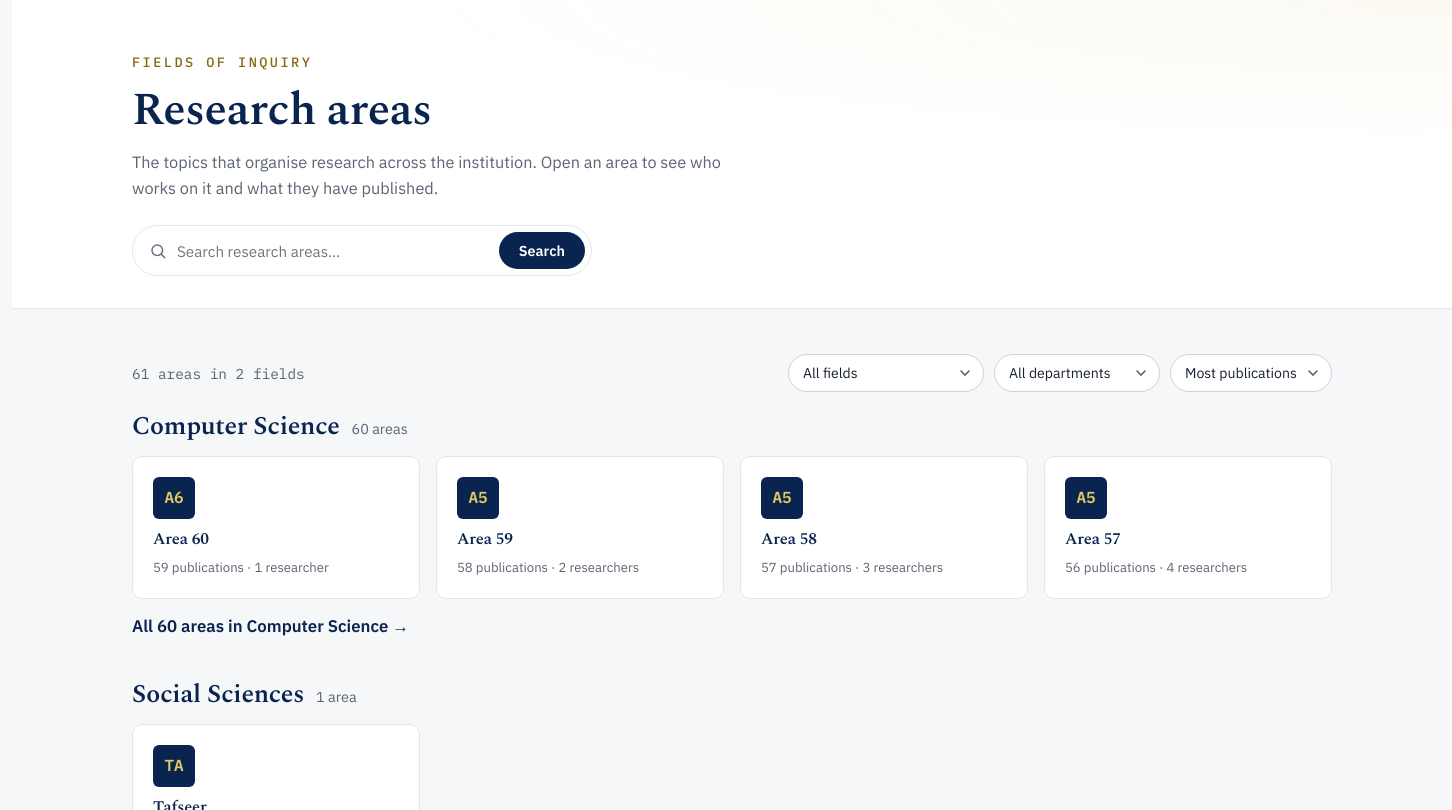
Scenario: Research areas › groups areas under their fields, largest field first
Expected: the headings read "Computer Science", "Social Sciences", in this order, [132,412,340,442]; [132,680,304,710]
What coordinates should you click on to do the following:
click the button "All 60 areas in Computer Science →"
I would click on:
 (270, 627)
Its box is [132,614,409,640].
(page scrolled)
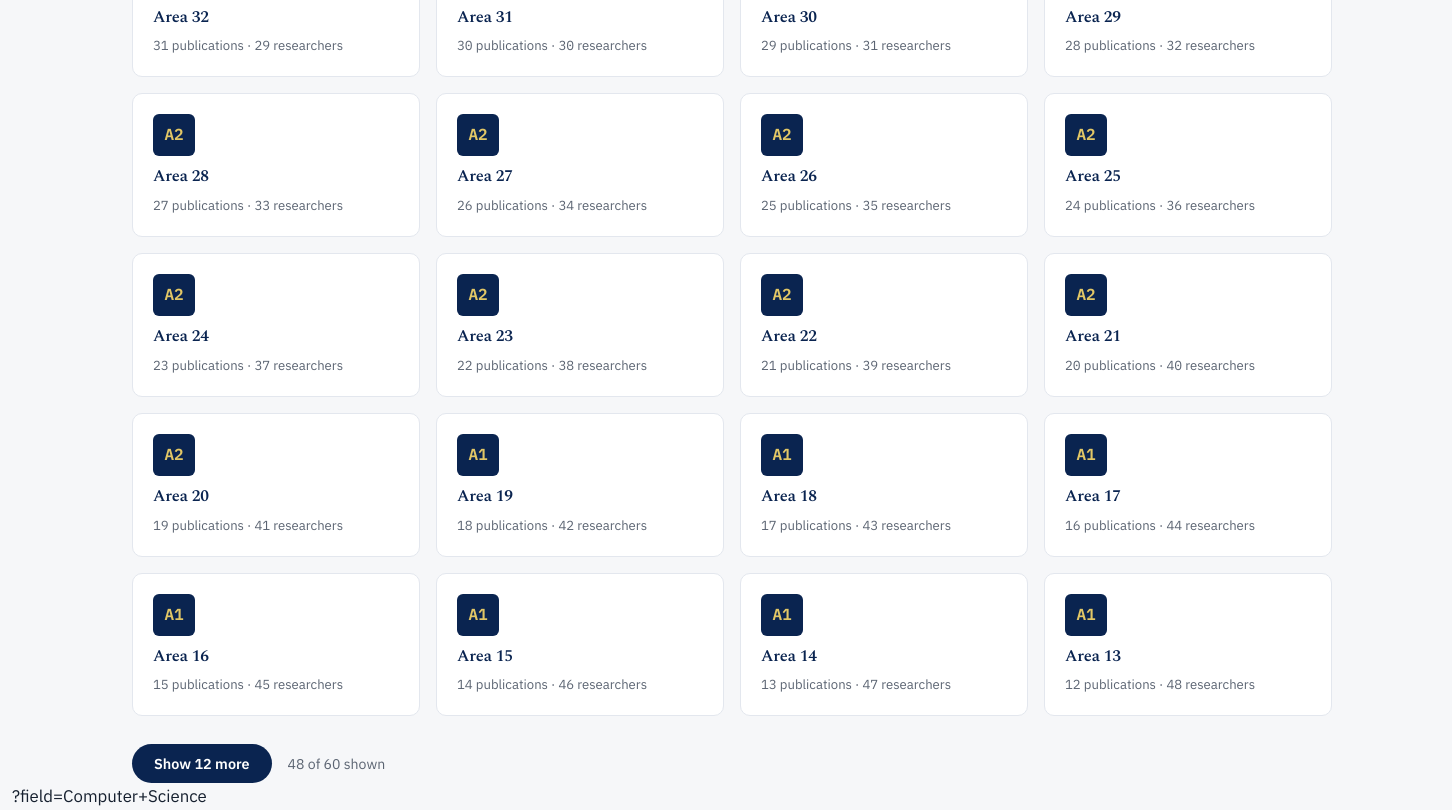
Result: the text with test id "where" reads "?field=Computer+Science" at [12,785,207,807]
